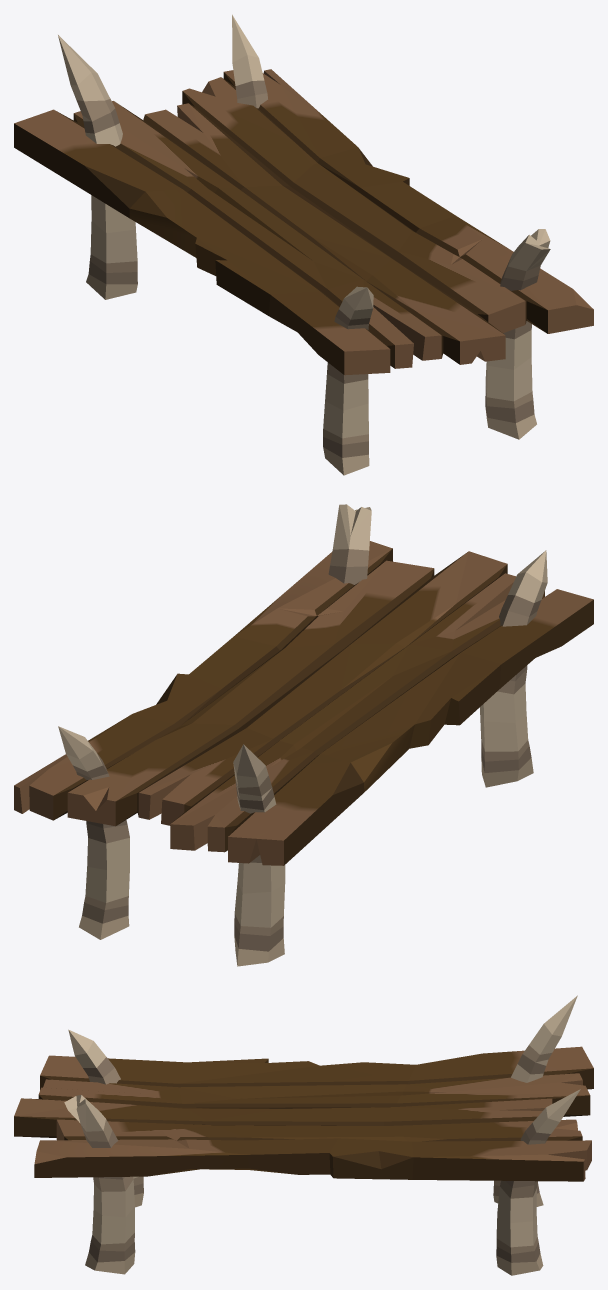
File: bog_table.gltf
3 renders of one model, top to bottom at view 1: azimuth 30°, elevation 25°; view 2: azimuth 150°, elevation 25°; view 3: azimuth 270°, elevation 25°, orthographic. The views are drawn at different scales.
Visible parts, largest first — view 1: bog_table; view 2: bog_table; view 3: bog_table.
Part boxes in pixels (box(x1,y1,x2,y2)): bog_table: box(14, 14, 593, 475); bog_table: box(14, 504, 593, 966); bog_table: box(14, 995, 593, 1275).
Size of the model in its own units: 1.48 by 1.32 by 3.39.
Materials: 1 (1 with a texture image).
